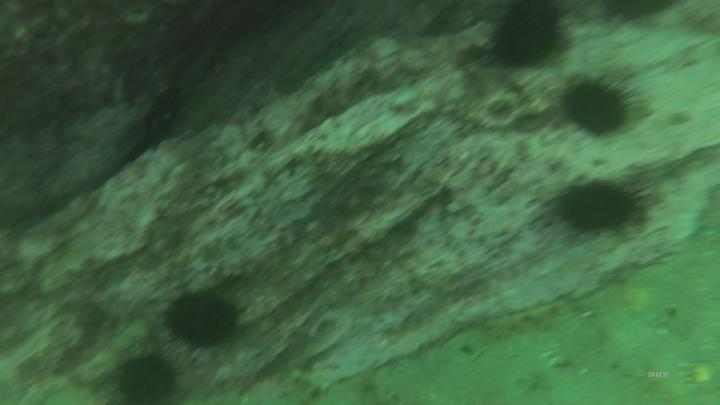echinus: (548, 175, 652, 244), (488, 4, 579, 76), (553, 69, 645, 139), (158, 287, 249, 352), (118, 349, 189, 405)
